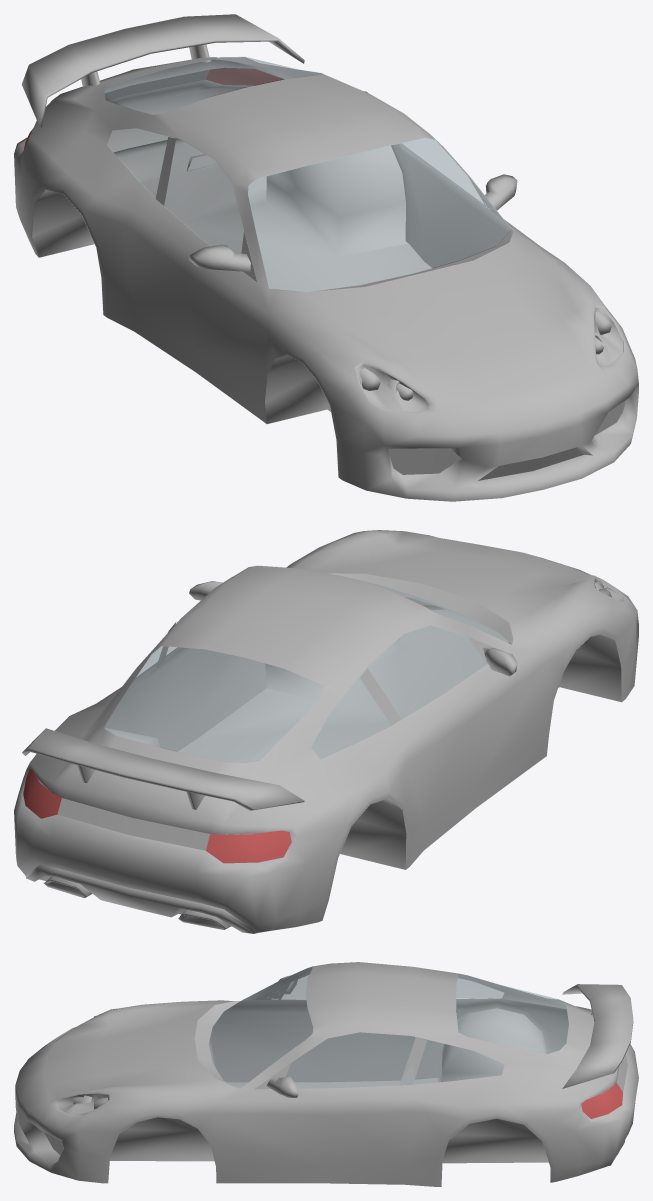
File: Car_12_LOD1.FBX
The picture shows the model from 3 angles, top to bottom: view 1: azimuth 30°, elevation 25°; view 2: azimuth 150°, elevation 25°; view 3: azimuth 270°, elevation 25°; orthographic projection. The views are drawn at different scales.
Parts seen in each view (by area): view 1: Body_12, Matte_12, Glass_12, Taillight_12; view 2: Body_12, Matte_12, Glass_12, Taillight_12; view 3: Body_12, Glass_12, Matte_12, Taillight_12.
Boxes of the visible parts, left/top/right/bottom form: Body_12: left=14, top=57, right=638, bottom=501; Matte_12: left=22, top=14, right=625, bottom=501; Glass_12: left=104, top=57, right=511, bottom=291; Taillight_12: left=24, top=67, right=284, bottom=148; Body_12: left=14, top=530, right=638, bottom=932; Matte_12: left=22, top=573, right=633, bottom=933; Glass_12: left=104, top=577, right=510, bottom=762; Taillight_12: left=23, top=769, right=291, bottom=863; Body_12: left=14, top=962, right=638, bottom=1186; Glass_12: left=209, top=966, right=568, bottom=1087; Matte_12: left=44, top=975, right=633, bottom=1179; Taillight_12: left=581, top=1083, right=622, bottom=1118.
Size of what is drawn, in the model's own units: 1.97 by 1.14 by 4.43.
